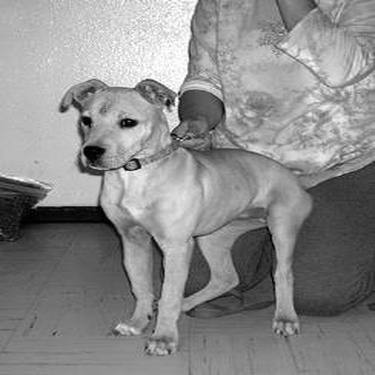dog: (52, 71, 320, 361)
